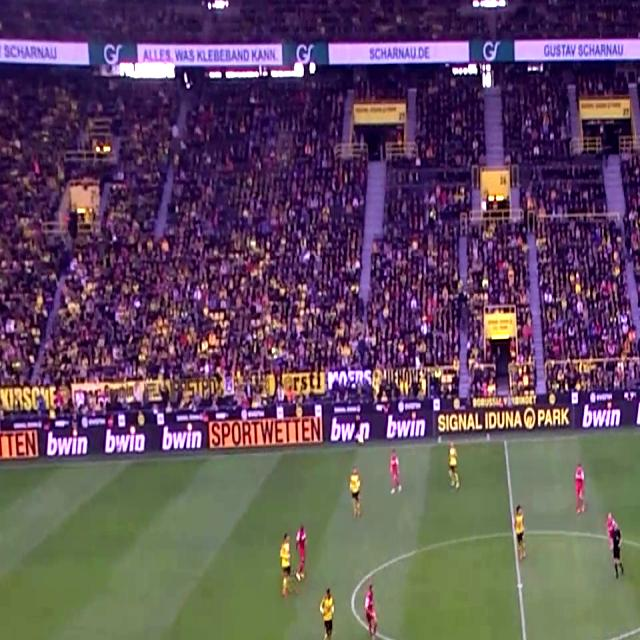referee: (604, 507, 630, 582)
soccer-player: (363, 571, 392, 640), (318, 585, 345, 640), (508, 504, 531, 568), (441, 439, 464, 496), (569, 461, 591, 519), (345, 467, 367, 523), (275, 528, 291, 601), (387, 446, 409, 498), (296, 516, 311, 592), (638, 511, 640, 576)
